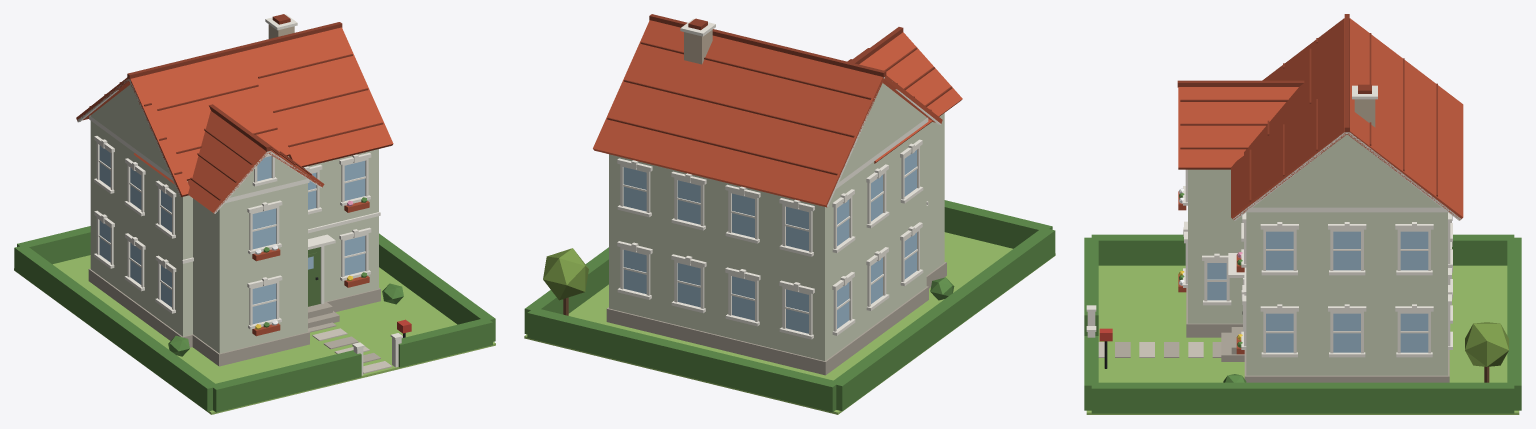
File: MustakilEv_avrupa_3_1_Hafif.fbx
3 views of the same model, side by side, from view 1: azimuth 30°, elevation 25°; view 2: azimuth 150°, elevation 25°; view 3: azimuth 270°, elevation 25° (orthographic). The views are drawn at different scales.
Parts seen in each view (by area): view 1: MustakilEv_avrupa_3_1_Hafif; view 2: MustakilEv_avrupa_3_1_Hafif; view 3: MustakilEv_avrupa_3_1_Hafif.
Part boxes in pixels (<box>): MustakilEv_avrupa_3_1_Hafif: <box>14,14,495,414</box>; MustakilEv_avrupa_3_1_Hafif: <box>524,14,1055,414</box>; MustakilEv_avrupa_3_1_Hafif: <box>1084,14,1521,414</box>.
Bounding box in the file's own units: 11.26 × 9.57 × 13.51.
